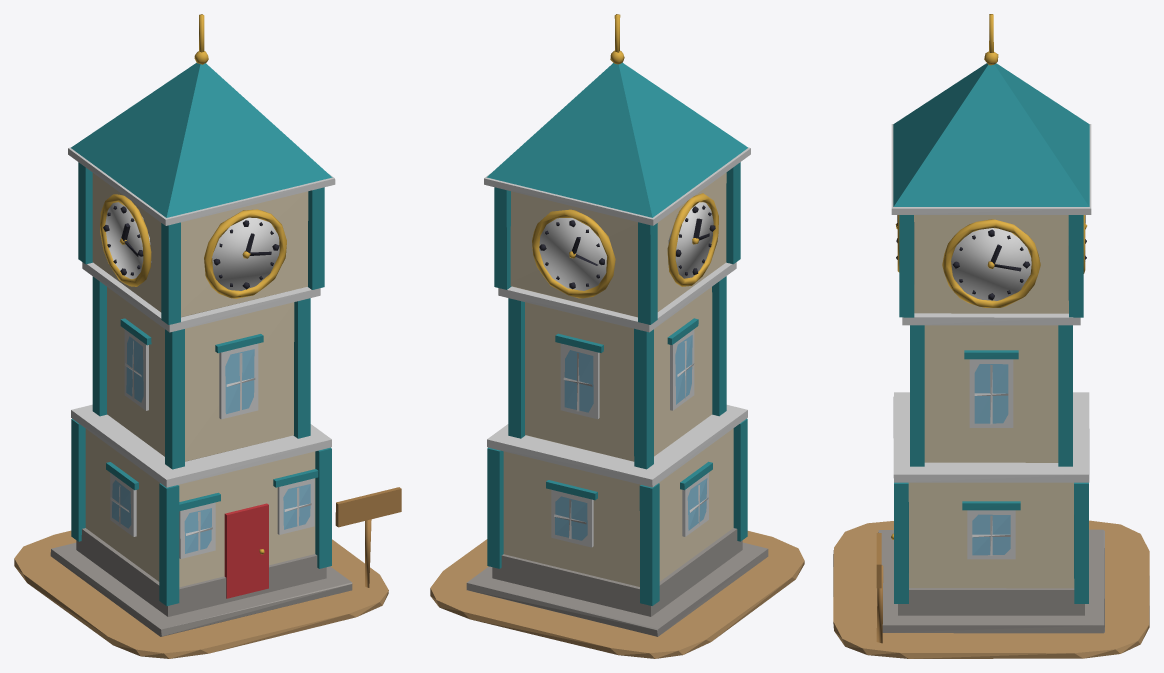
File: clock-tower-lod1-4.4b2f6792.glb
3 renders of one model, left to right at view 1: azimuth 30°, elevation 25°; view 2: azimuth 150°, elevation 25°; view 3: azimuth 270°, elevation 25°, orthographic. The views are drawn at different scales.
Visible parts, largest first — view 1: ClockTower_Stage4__T_vcol; view 2: ClockTower_Stage4__T_vcol; view 3: ClockTower_Stage4__T_vcol.
Boxes of the visible parts, x1,y1,x2,y2 form: ClockTower_Stage4__T_vcol: (14,14,401,658); ClockTower_Stage4__T_vcol: (430,14,804,658); ClockTower_Stage4__T_vcol: (833,14,1149,658).
Bounding box in the file's own units: 4.96 × 9.62 × 4.78.
